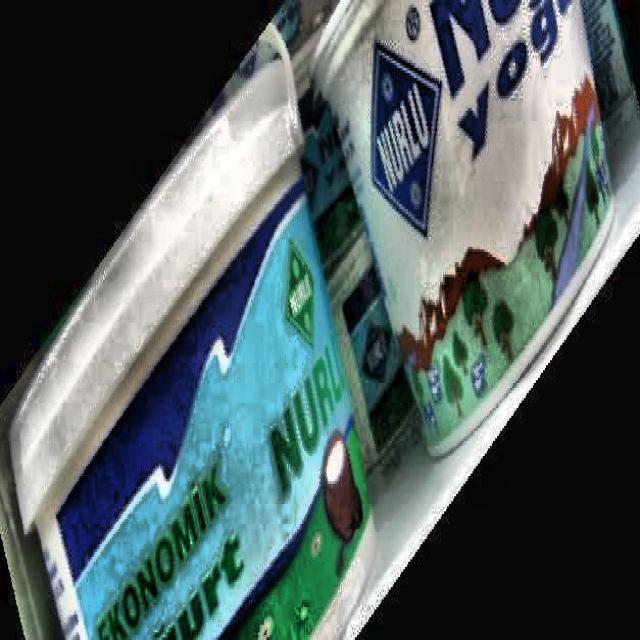plastic: (11, 49, 374, 637), (315, 0, 612, 457)
